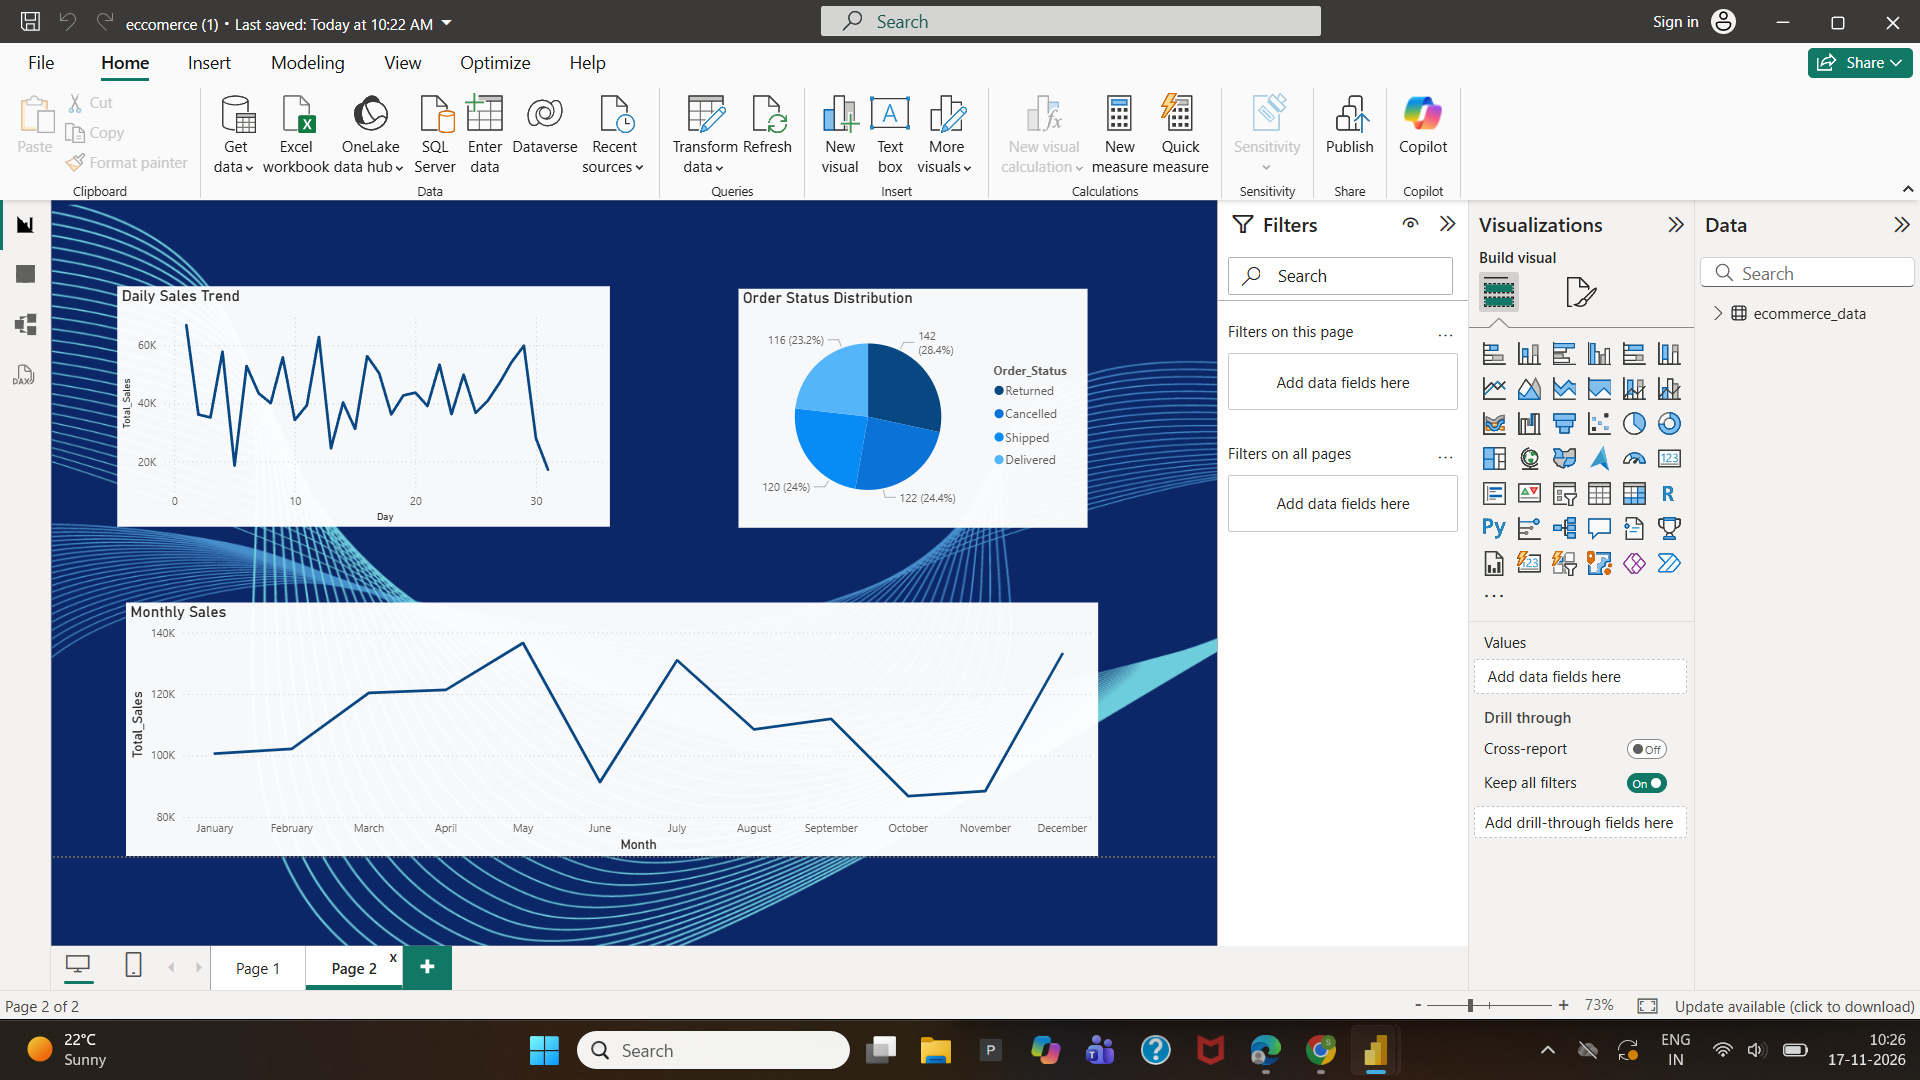

The dashboard page shown, as its layout file describes it:
{"tool":"powerbi","page":{"name":"Page 2","canvas":[1280,720],"ordinal":1},"visuals":[{"type":"lineChart","title":" Monthly Sales","fields":{"Y":["Sum(ecommerce_data.Price)"],"Category":["ecommerce_data.Order_Date.Variation.Date Hierarchy.Month"]},"box":[82.6,441.9,1066.9,279.5],"z":0},{"type":"pieChart","title":"Order Status Distribution","fields":{"Category":["ecommerce_data.Order_Status"],"Y":["CountNonNull(ecommerce_data.Order_ID)"]},"box":[754.7,97.4,382.8,262.1],"z":1000},{"type":"lineChart","title":"Daily Sales Trend","fields":{"Category":["ecommerce_data.Order_Date.Variation.Date Hierarchy.Day"],"Y":["Sum(ecommerce_data.Price)"]},"box":[73,95,541,264.3],"z":1001}]}

Visuals, with their boxes on the page's 1280x720 design canvas (x1, y1, x2, y2). These are canvas units, not pixel positions in the 1920x1080 screenshot, which may show the page scaled, cropped or inside an application window:
" Monthly Sales" lineChart: rect(83, 442, 1150, 721)
"Order Status Distribution" pieChart: rect(755, 97, 1138, 360)
"Daily Sales Trend" lineChart: rect(73, 95, 614, 359)
